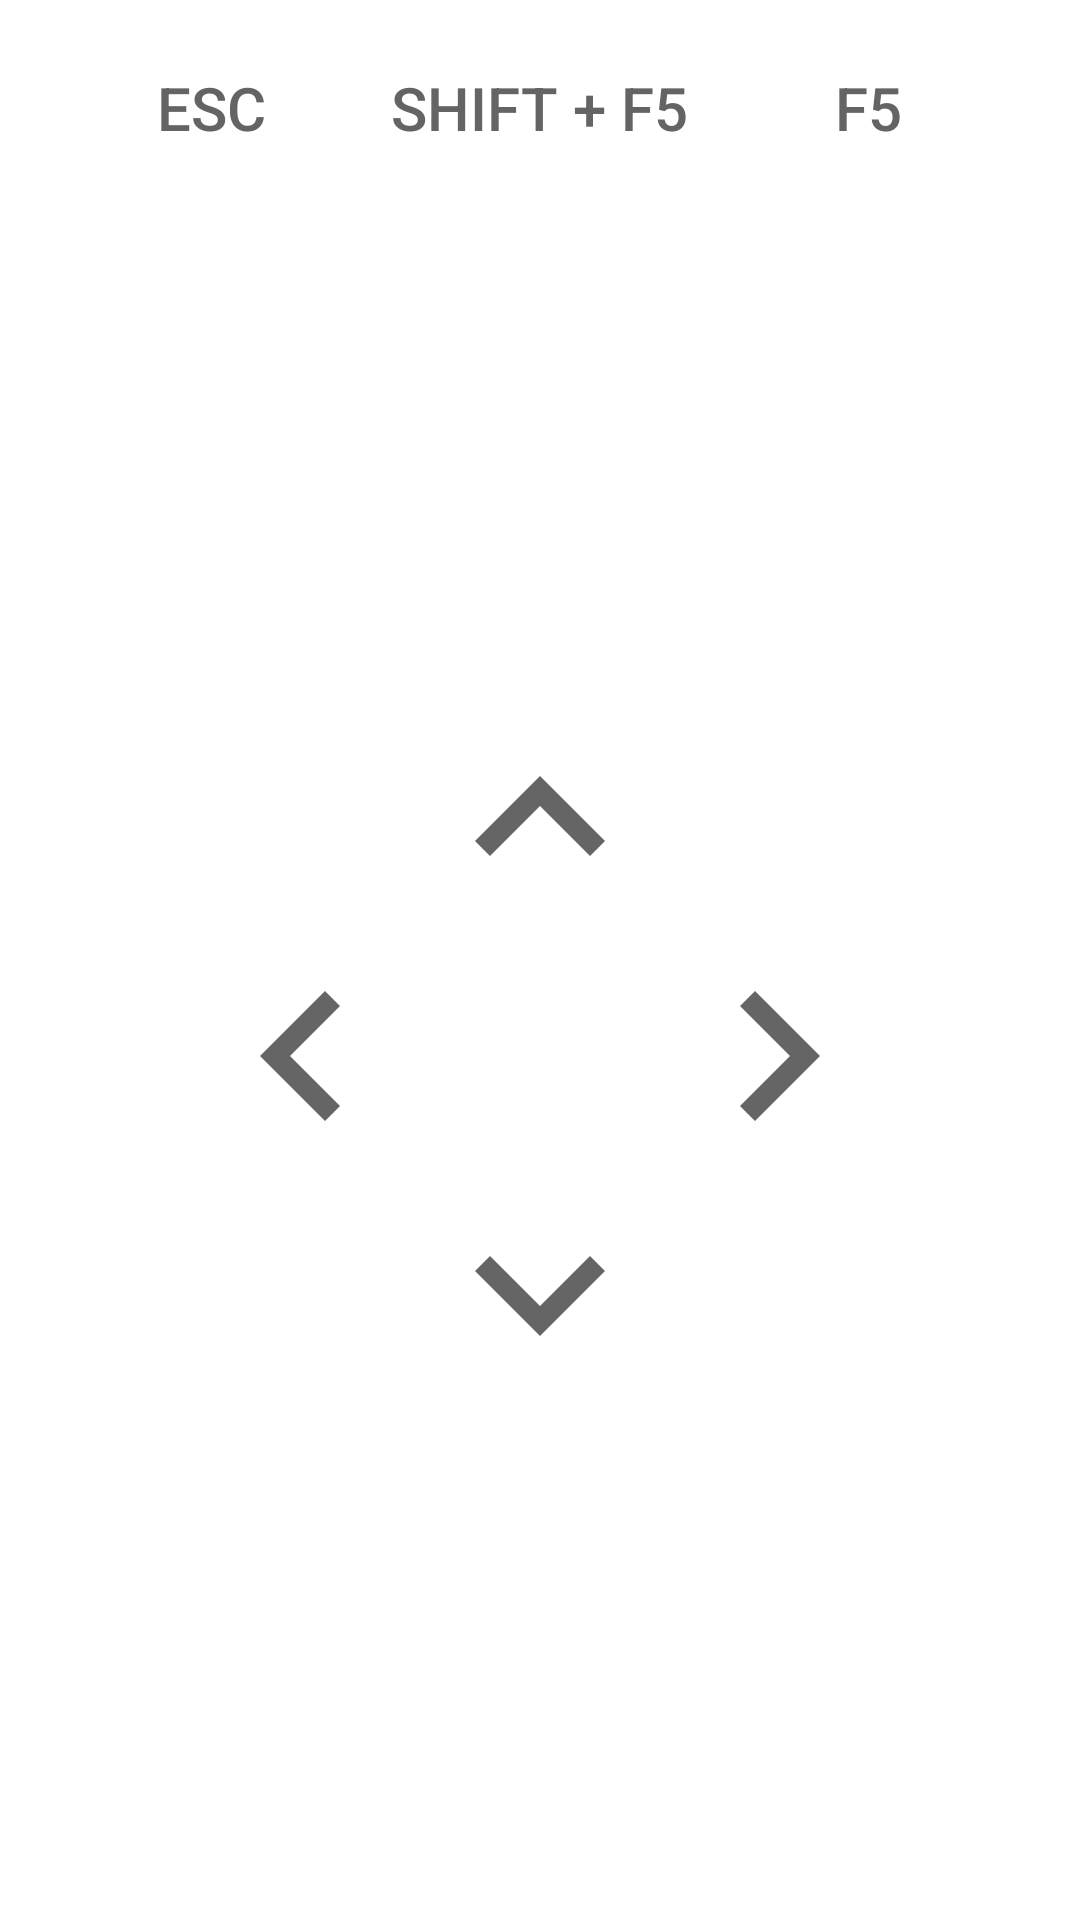

Icons on this 1080 × 1920 Android screen, each with its box as box=[x1, y1, x2, y2]:
keyboard arrow down: box=[475, 1256, 605, 1336]
keyboard arrow left: box=[260, 991, 340, 1121]
keyboard arrow right: box=[740, 991, 820, 1121]
keyboard arrow up: box=[475, 776, 605, 856]
